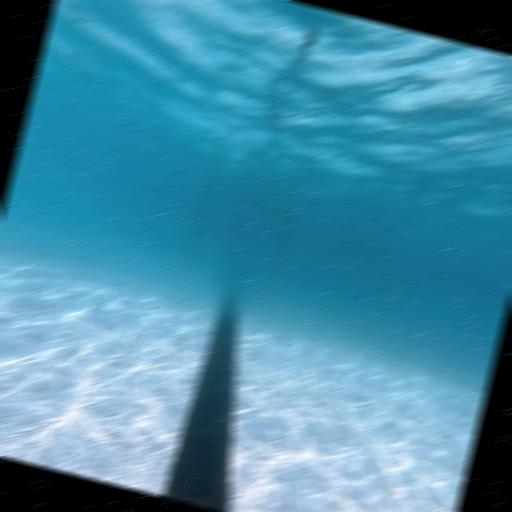gate: (172, 186, 296, 320)
